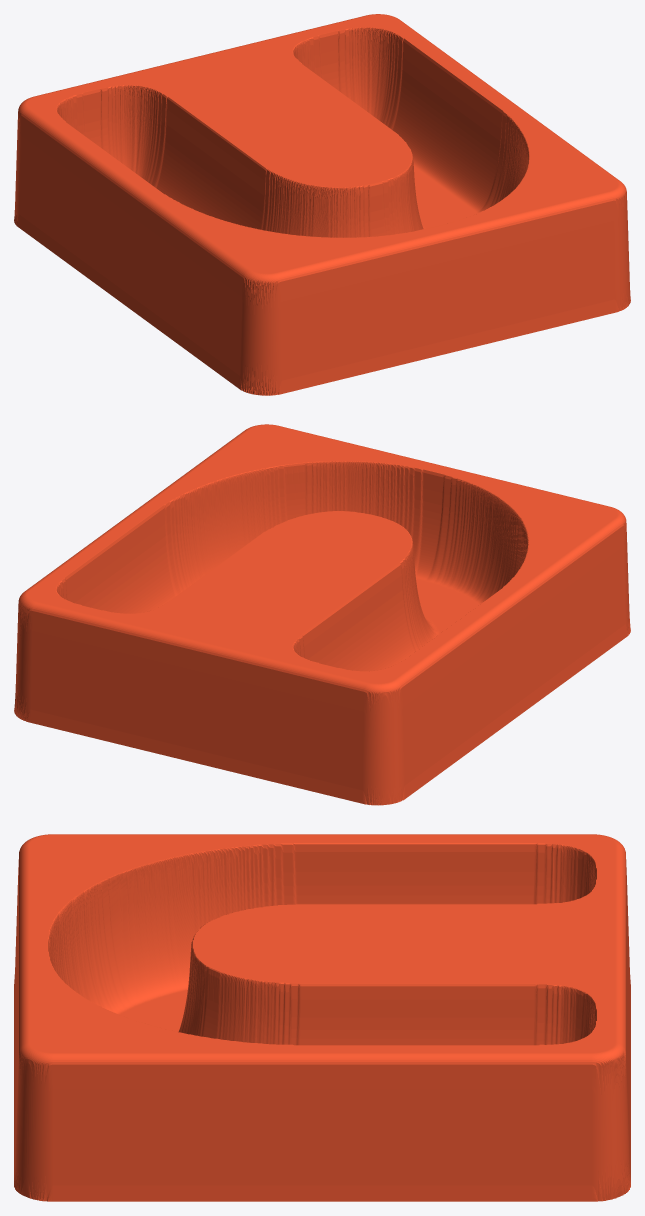
Rendered from mold.glb.
3 views of the same model, one above another, from view 1: azimuth 30°, elevation 25°; view 2: azimuth 150°, elevation 25°; view 3: azimuth 270°, elevation 25° (orthographic). The views are drawn at different scales.
Parts seen in each view (by area): view 1: geometry_0; view 2: geometry_0; view 3: geometry_0.
Boxes of the visible parts, x1,y1,x2,y2 form: geometry_0: [14, 14, 630, 395]; geometry_0: [14, 424, 630, 805]; geometry_0: [14, 834, 630, 1201].
Size of the model in its own units: 0.127 by 0.0365 by 0.1435.
